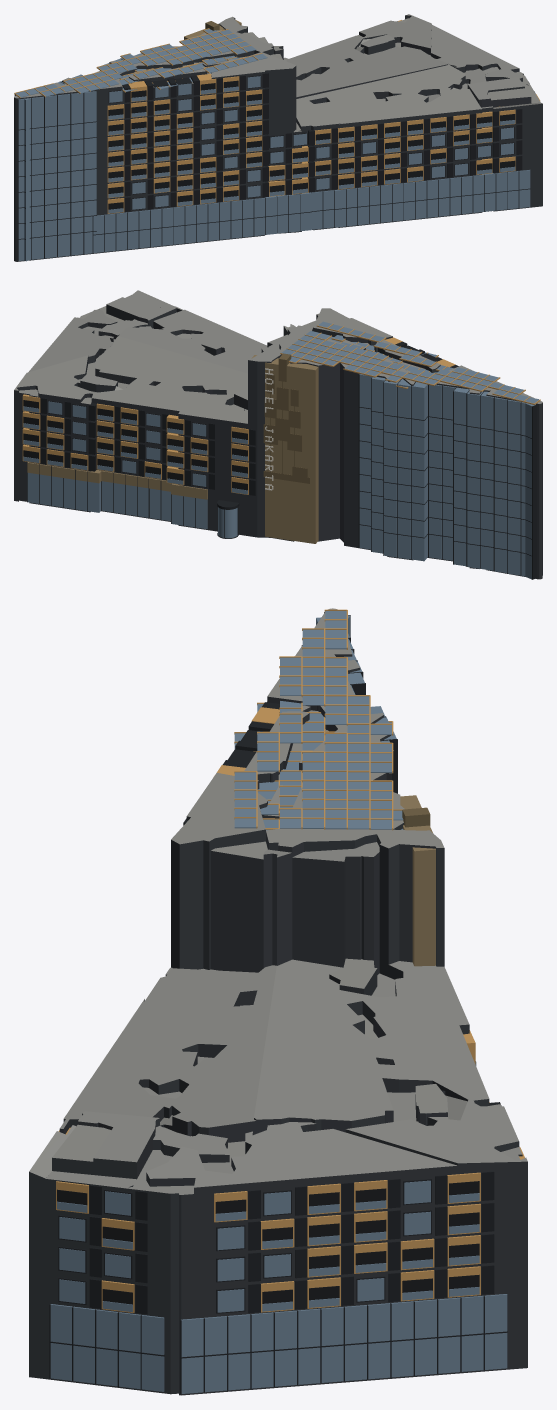
File: hotel-jakarta.glb
3 renders of one model, top to bottom at view 1: azimuth 30°, elevation 25°; view 2: azimuth 150°, elevation 25°; view 3: azimuth 270°, elevation 25°, orthographic. The views are drawn at different scales.
Visible parts, largest first — view 1: hotel-jakarta; view 2: hotel-jakarta; view 3: hotel-jakarta.
Boxes of the visible parts, x1,y1,x2,y2 form: hotel-jakarta: [14, 14, 542, 261]; hotel-jakarta: [14, 290, 542, 579]; hotel-jakarta: [29, 608, 527, 1395].
Bounding box in the file's own units: 96.49 × 32.9 × 44.13.
